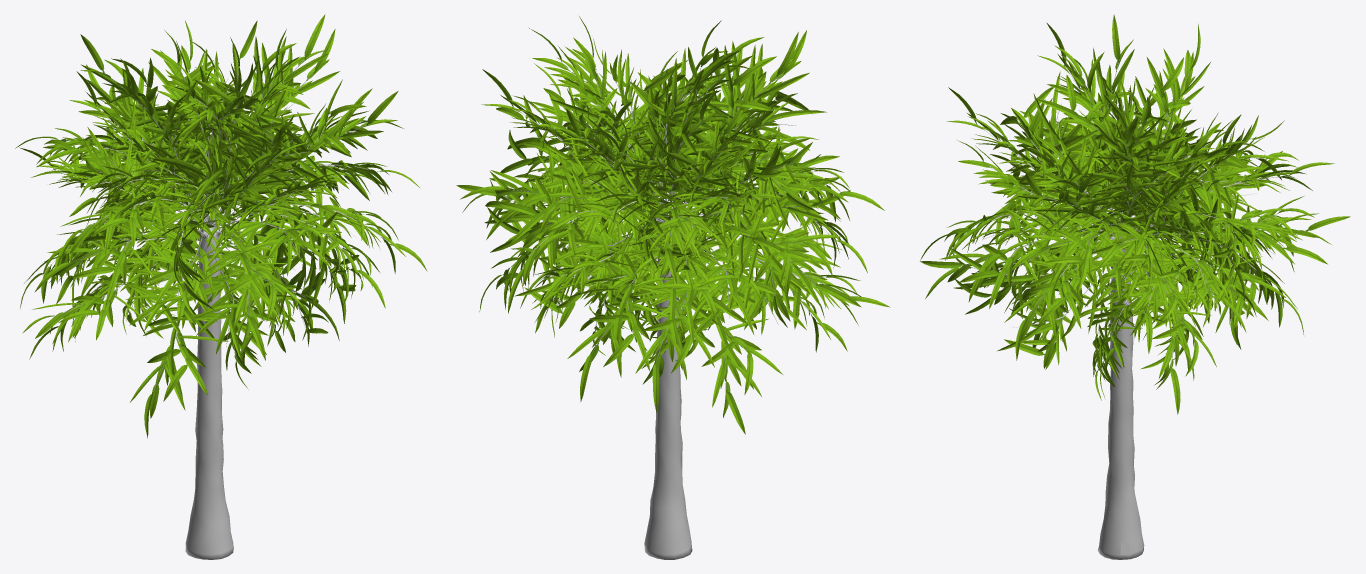
3 renders of one model, left to right at view 1: azimuth 30°, elevation 25°; view 2: azimuth 150°, elevation 25°; view 3: azimuth 270°, elevation 25°, orthographic. The views are drawn at different scales.
Parts seen in each view (by area): view 1: Leaves, TrunkandBranches; view 2: Leaves, TrunkandBranches; view 3: Leaves, TrunkandBranches.
Part boxes in pixels (left/top/right/bottom): Leaves: left=15, top=14, right=427, bottom=438; TrunkandBranches: left=44, top=58, right=391, bottom=559; Leaves: left=456, top=16, right=889, bottom=434; TrunkandBranches: left=503, top=62, right=835, bottom=559; Leaves: left=920, top=14, right=1350, bottom=414; TrunkandBranches: left=962, top=62, right=1307, bottom=559.
Size of the model in its own units: 59.04 by 76.83 by 58.45.
